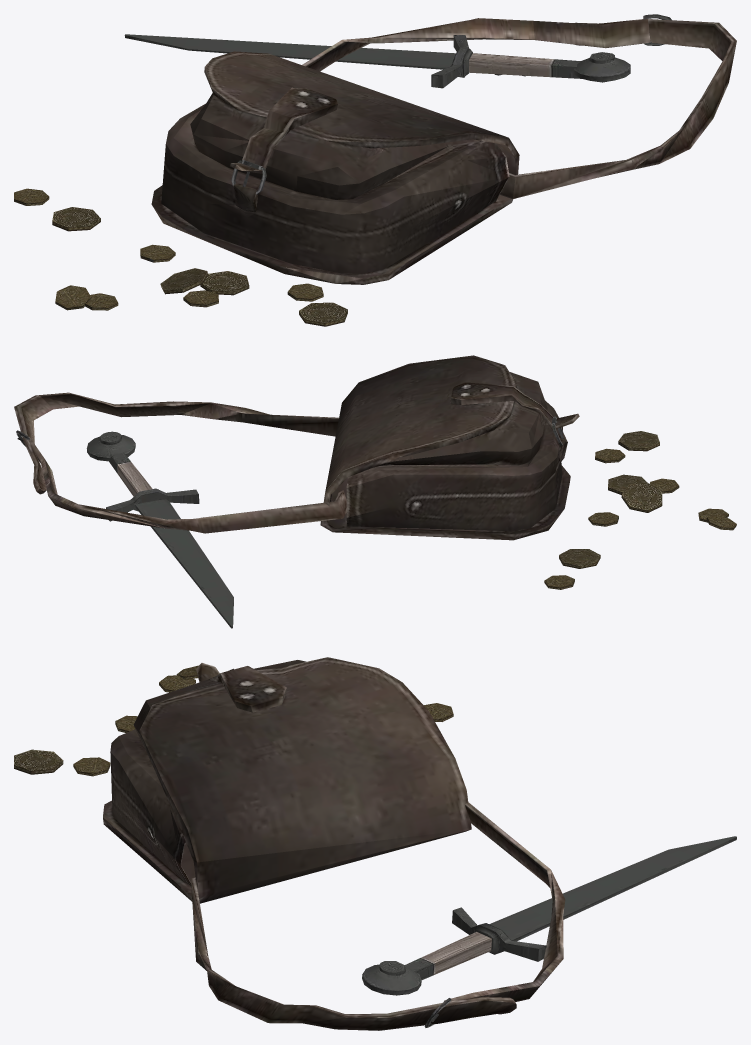
The model's file is Loot-transformed.glb.
3 renders of one model, top to bottom at view 1: azimuth 30°, elevation 25°; view 2: azimuth 150°, elevation 25°; view 3: azimuth 270°, elevation 25°, orthographic. The views are drawn at different scales.
Visible parts, largest first — view 1: loot; view 2: loot; view 3: loot.
Boxes of the visible parts, bbox=[...] form: loot: bbox=[14, 14, 736, 326]; loot: bbox=[14, 355, 736, 628]; loot: bbox=[14, 657, 736, 1030].
Bounding box in the file's own units: 0.4313 × 0.0711 × 0.3471.
1 material, 1 textured.
